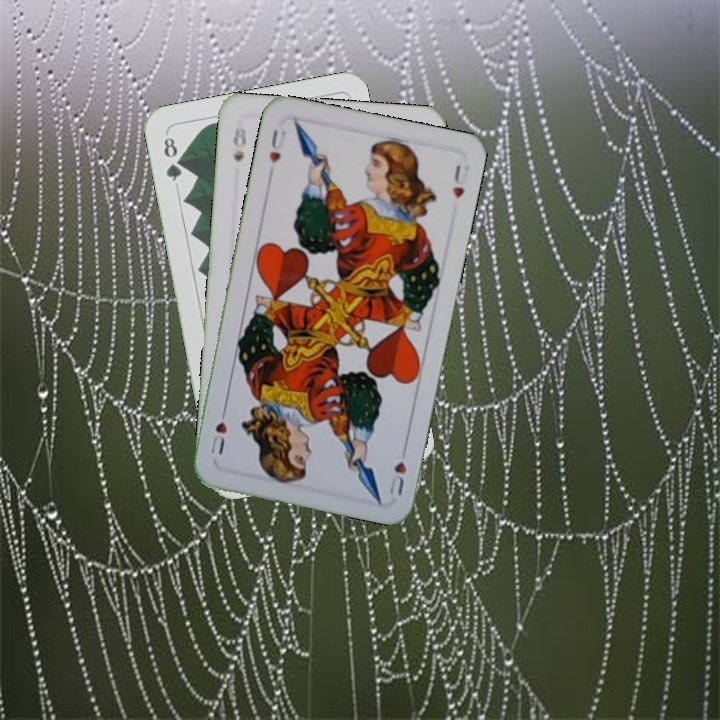G8: (159, 133, 185, 184)
HU: (385, 441, 410, 499), (265, 125, 289, 166)
S8: (228, 121, 249, 165)
